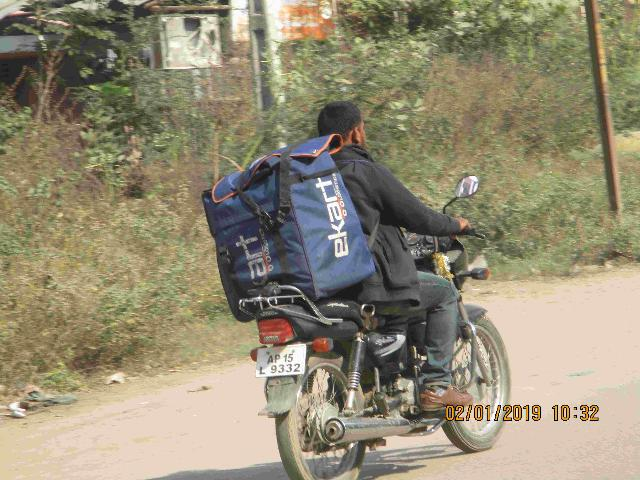motor: (234, 176, 517, 480)
non-helm: (318, 98, 369, 150)
